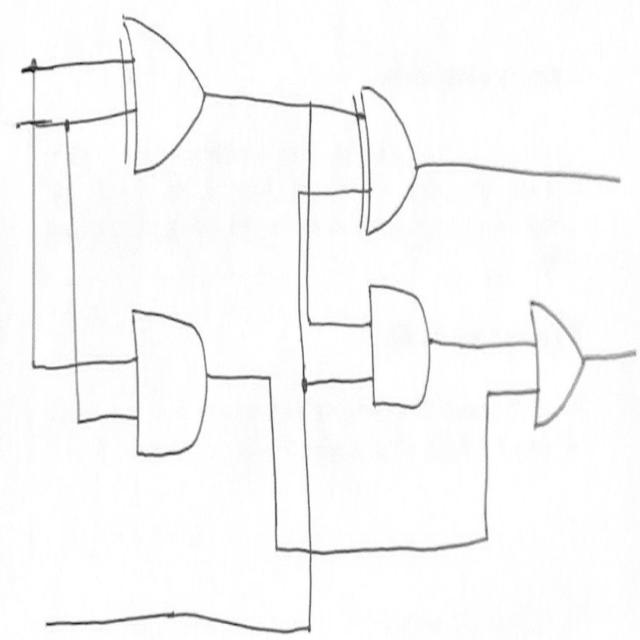AND: (120, 280, 217, 493), (364, 280, 445, 423)
OR: (524, 271, 588, 454)
XOR: (113, 6, 214, 193), (346, 78, 426, 236)
